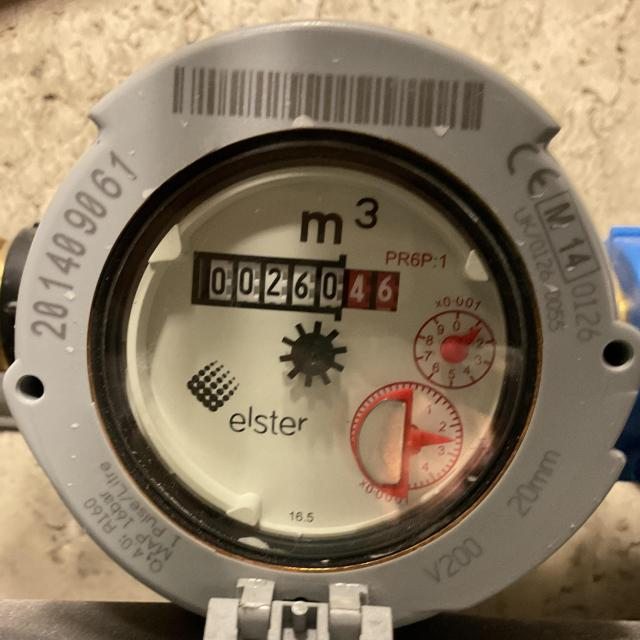gaz_meter: (86, 123, 547, 572)
indication: (200, 256, 400, 317)
